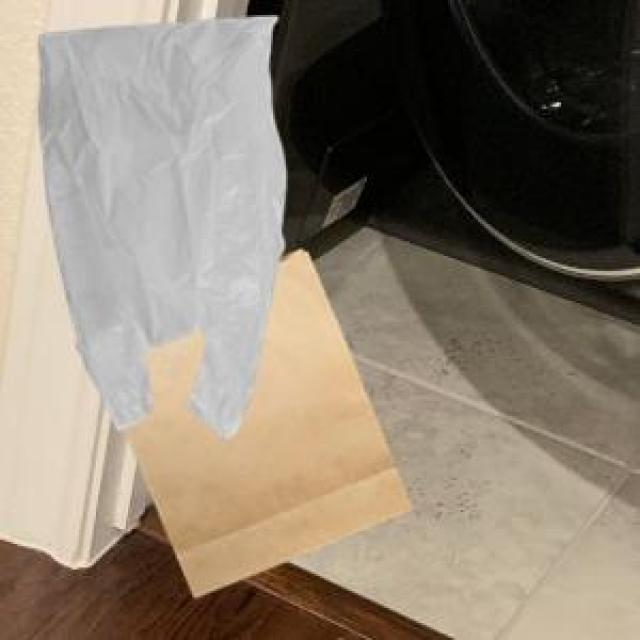paper: (122, 245, 408, 593)
